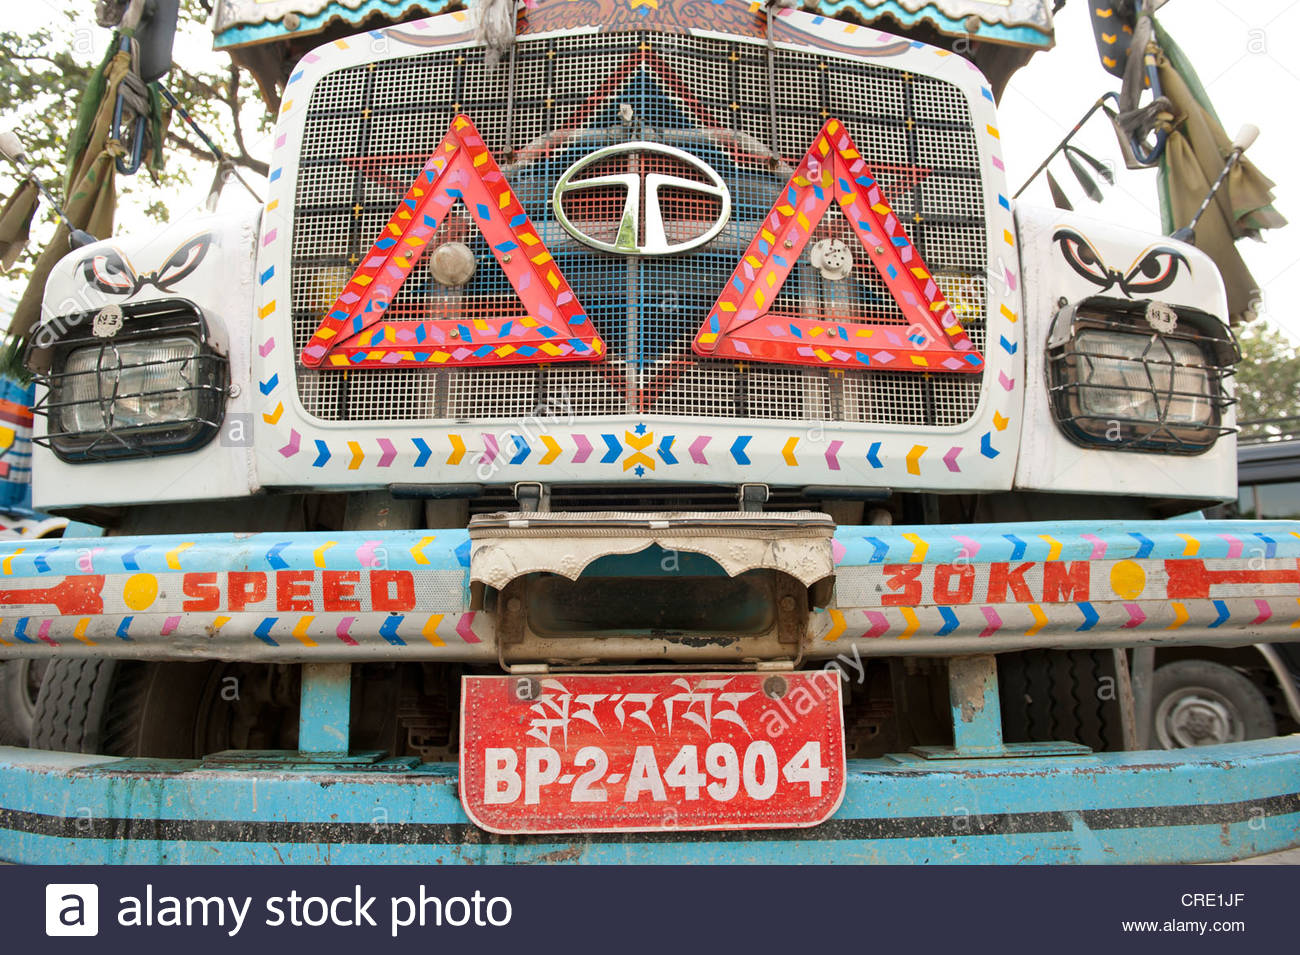number_plate: (463, 671, 852, 832)
